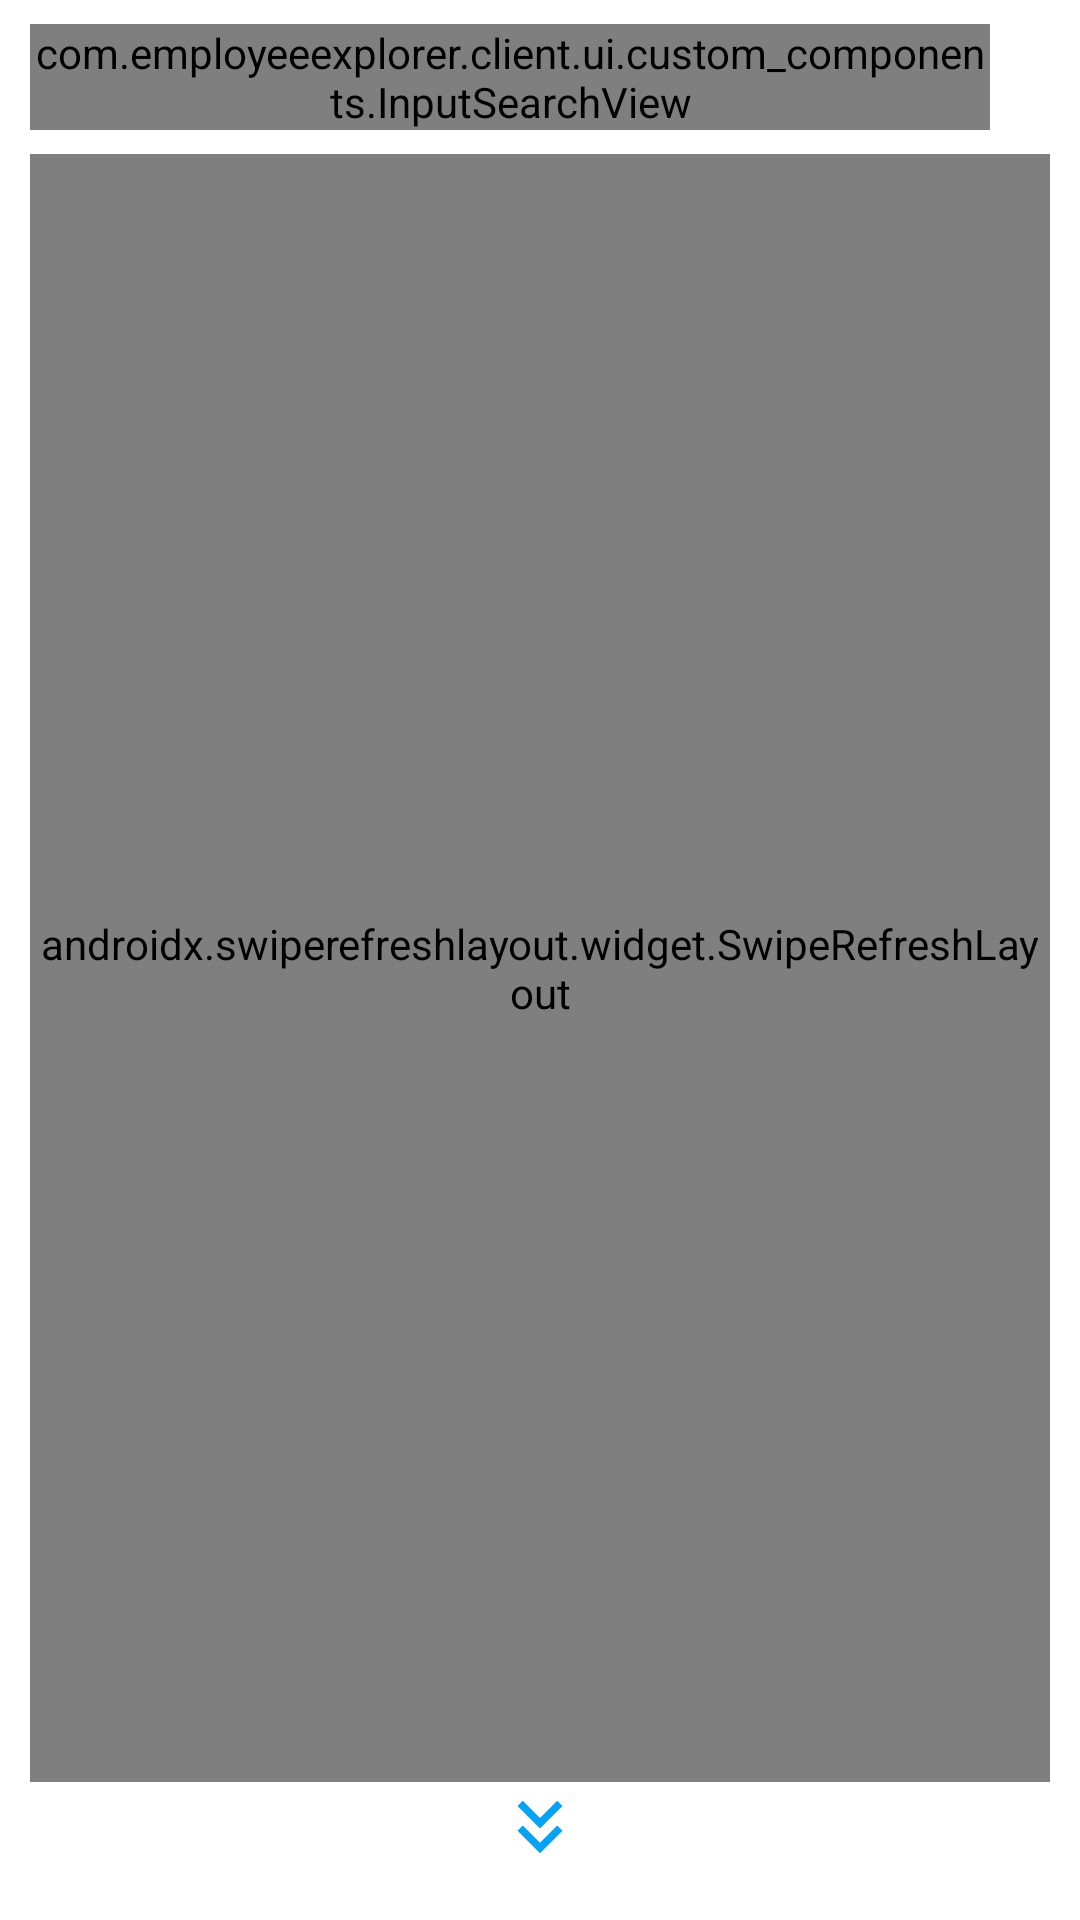

Screen size 1080x1920. Icon name, then its box in pixels as (x1, y1, x2, y2):
swipe down: (517, 1801, 563, 1853)
